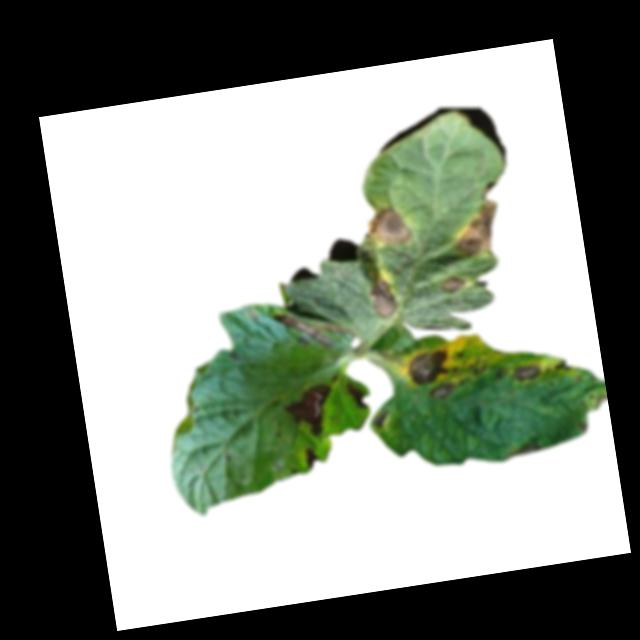Early_blight: (273, 302, 349, 355), (280, 379, 340, 442), (449, 199, 509, 260), (361, 204, 414, 252), (405, 346, 452, 386), (366, 275, 401, 324), (345, 379, 369, 411), (506, 441, 546, 459), (441, 272, 469, 296), (427, 380, 455, 404), (511, 363, 541, 383), (304, 447, 323, 469), (554, 358, 572, 376)
